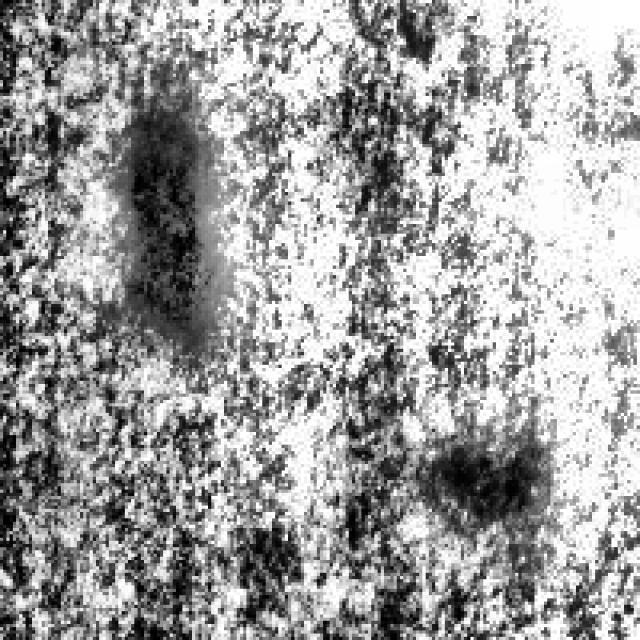Scratches: (119, 106, 218, 346)
